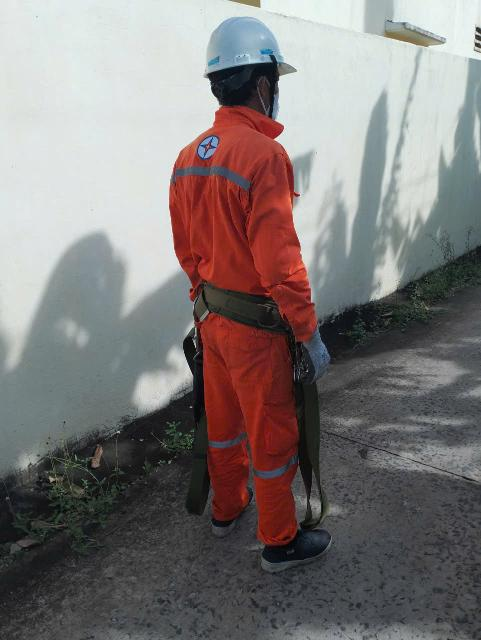gloves: (275, 299, 343, 390)
helmet: (193, 10, 300, 81)
shoes: (257, 513, 339, 575), (171, 478, 257, 534)
